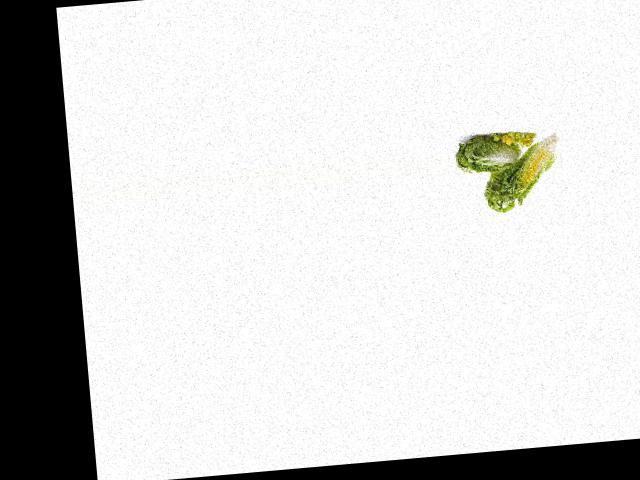lettuce: (455, 127, 530, 177)
